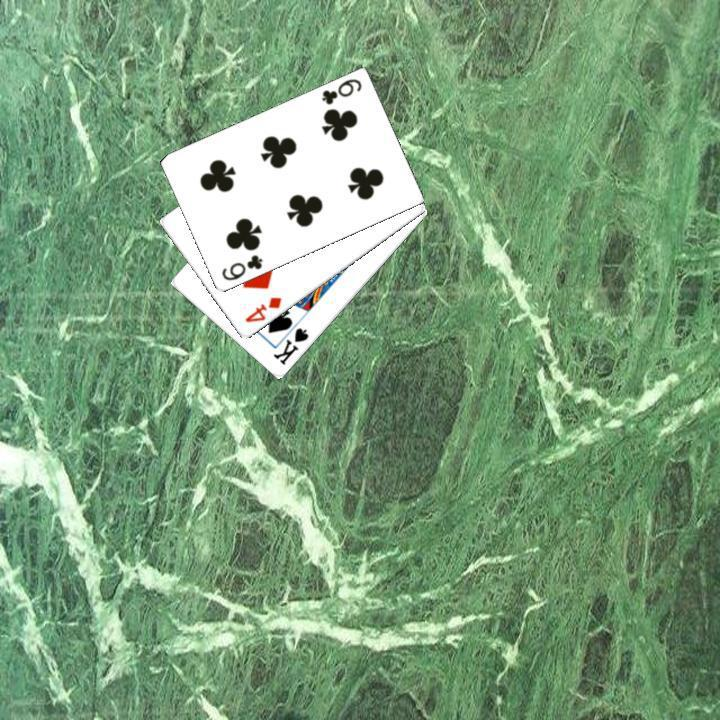4: (240, 293, 284, 325)
6: (217, 251, 264, 283), (317, 75, 364, 107)
K: (269, 323, 311, 368)
